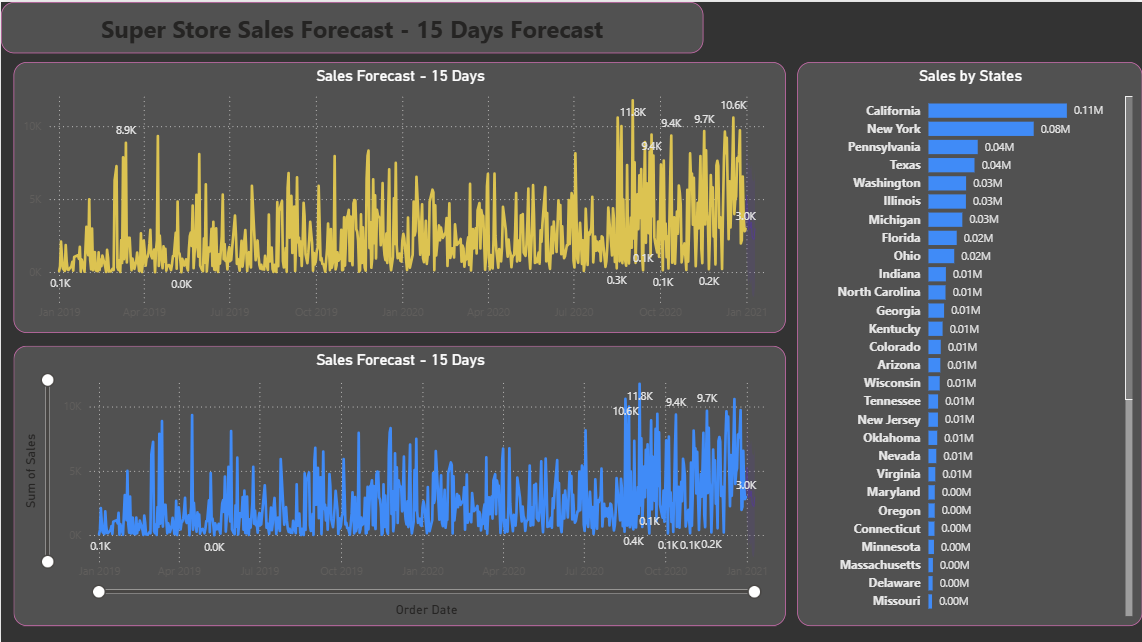

What the dashboard file says about the page in this screenshot:
{"tool":"powerbi","page":{"name":"Page 2","canvas":[1280,720],"ordinal":1},"visuals":[{"type":"lineChart","title":"Sales Forecast - 15 Days","fields":{"Y":["Sum(SuperStore_Sales_Dataset.Sales)"],"Category":["SuperStore_Sales_Dataset.Order Date"]},"box":[14,67.3,866.6,304.3],"z":0},{"type":"lineChart","title":"Sales Forecast - 15 Days","fields":{"Y":["Sum(SuperStore_Sales_Dataset.Sales)"],"Category":["SuperStore_Sales_Dataset.Order Date"]},"box":[14,385.6,866.6,314.1],"z":1000},{"type":"textbox","box":[0,0,788.1,57.5],"z":2000},{"type":"clusteredBarChart","title":"Sales by States","fields":{"Y":["Sum(SuperStore_Sales_Dataset.Sales)"],"Category":["SuperStore_Sales_Dataset.State"]},"box":[893.3,67.3,387,632.4],"z":3000}]}

Visuals, with their boxes in screenshot pixels (x1, y1, x2, y2), scaled from the page's 1280x720 canvas onto the 1142x642 screenshot:
"Sales Forecast - 15 Days" lineChart: pyautogui.locateOnScreen(12, 60, 786, 331)
"Sales Forecast - 15 Days" lineChart: pyautogui.locateOnScreen(12, 344, 786, 624)
textbox: pyautogui.locateOnScreen(0, 0, 703, 51)
"Sales by States" clusteredBarChart: pyautogui.locateOnScreen(797, 60, 1141, 624)
